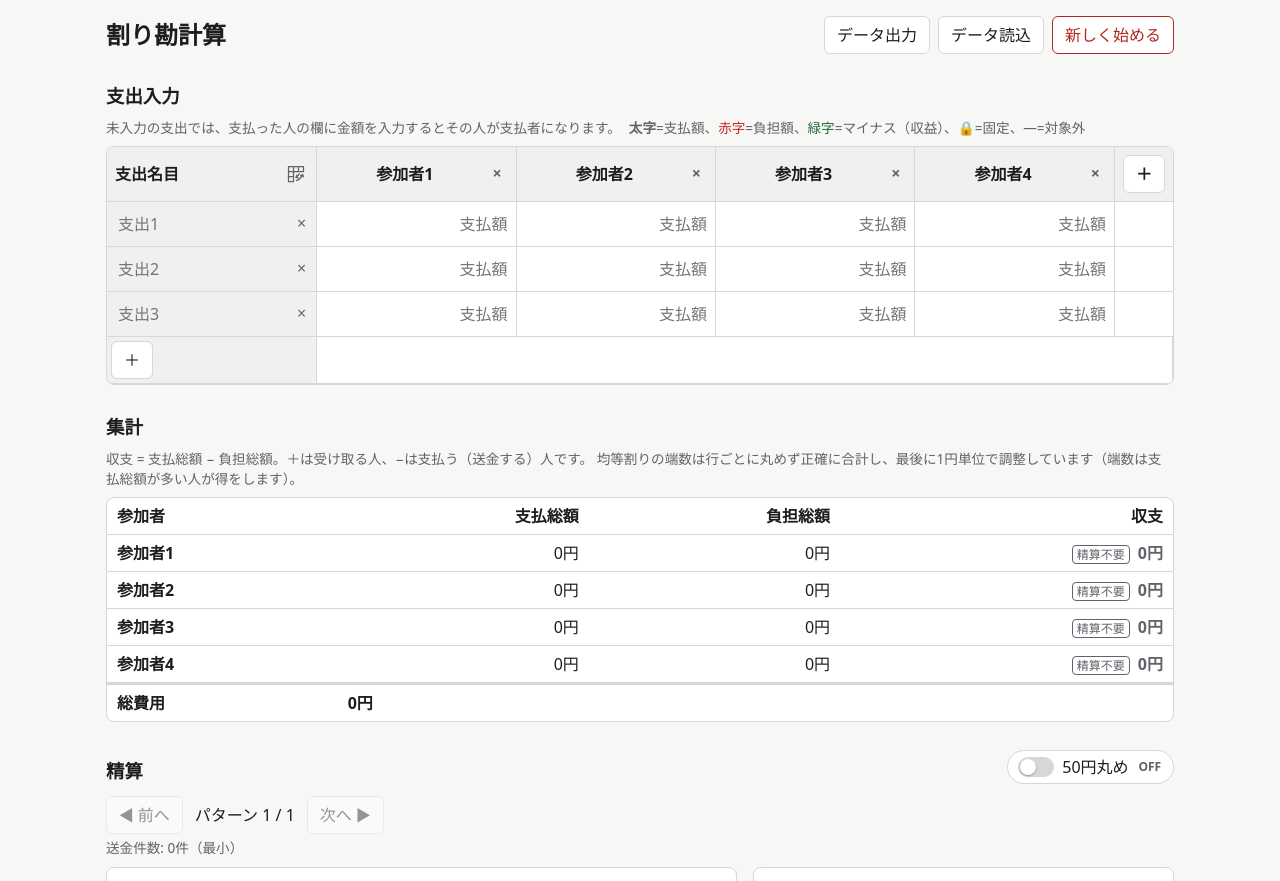
Test: App › 支払者セルは「/自己負担額」を表示
This screenshot has width=1280, height=881.
In the 1st field with placeholder "支払額": (416, 224) x1=317 y1=202 x2=516 y2=246, type "1000"
Then press Enter
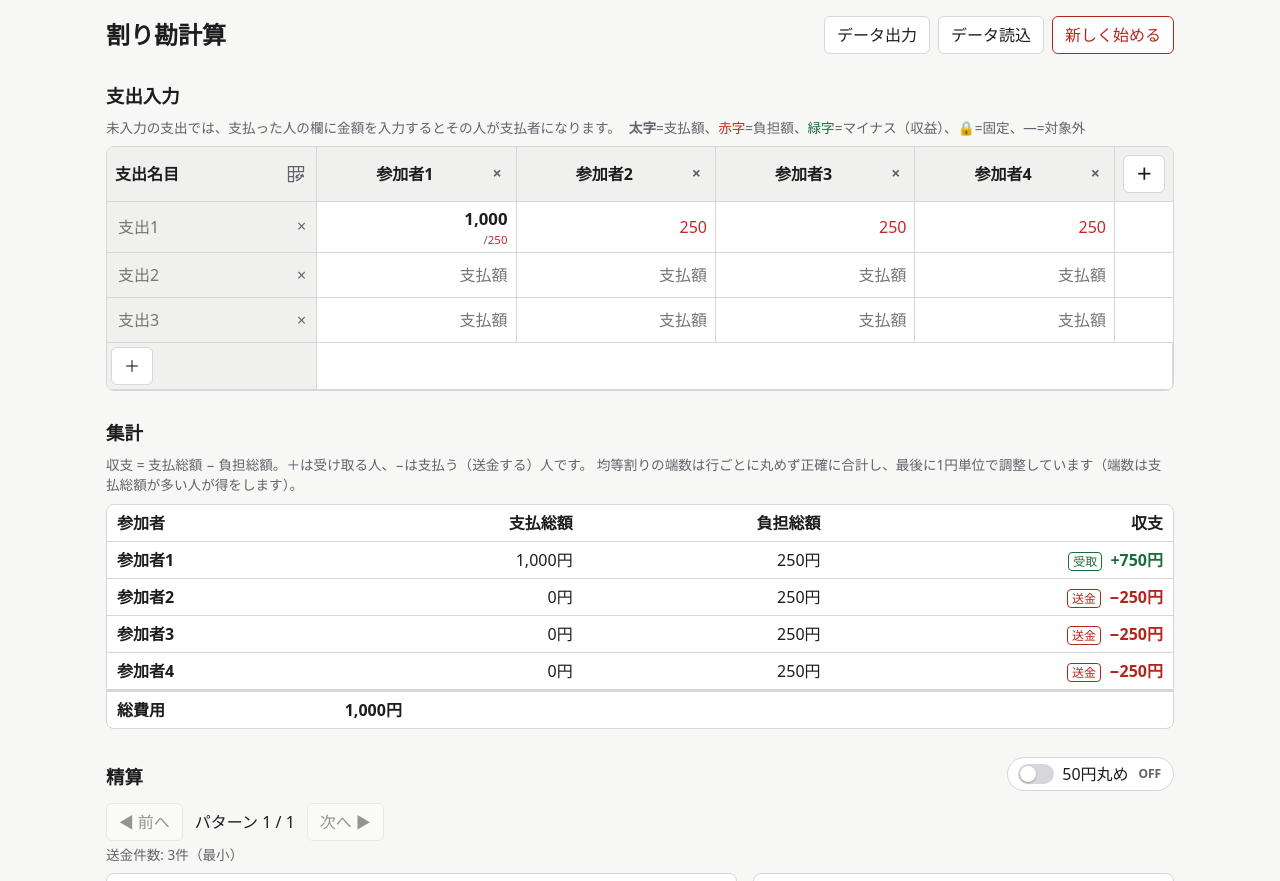
Now the button named "支出1 の 参加者1：支払 1,000円" reads "1,000 /250", box x1=317 y1=202 x2=516 y2=252
